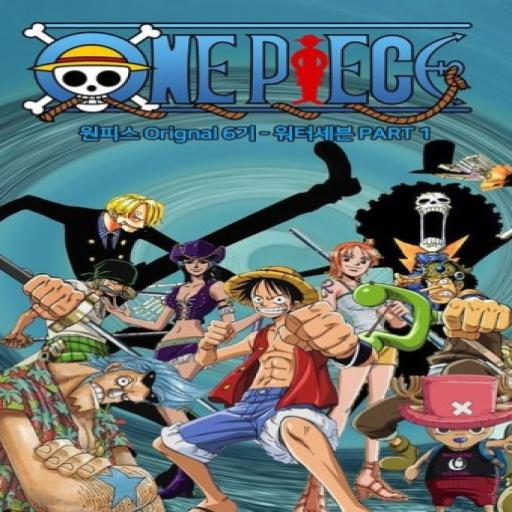Luffy: (235, 264, 324, 320)
Nami: (325, 238, 393, 280)
NicoRobin: (164, 240, 234, 284)
Usopp: (414, 259, 484, 304)
Zoro: (78, 256, 146, 301)
sanji: (98, 189, 165, 237)
